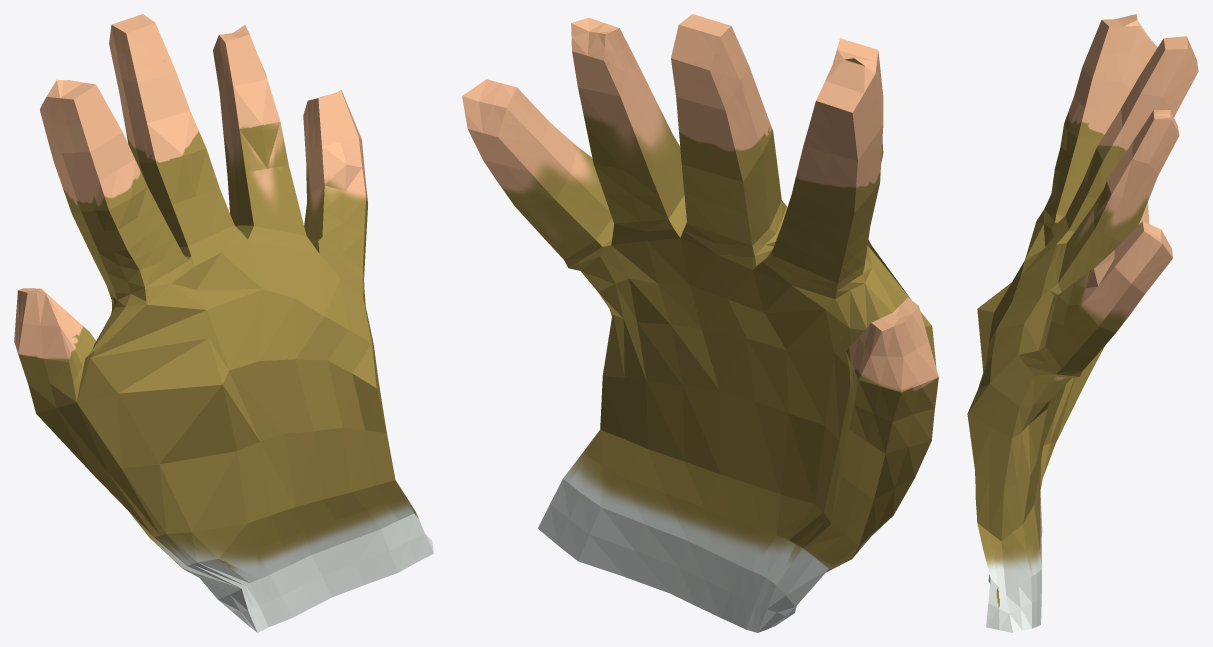
File: flexion0015.obj
The picture shows the model from 3 angles, left to right: view 1: azimuth 30°, elevation 25°; view 2: azimuth 150°, elevation 25°; view 3: azimuth 270°, elevation 25°; orthographic projection. The views are drawn at different scales.
Visible parts, largest first — view 1: Hand; view 2: Hand; view 3: Hand.
Part boxes in pixels (box(x1,y1,x2,y2)): Hand: box(14, 14, 433, 632); Hand: box(462, 14, 938, 632); Hand: box(967, 14, 1198, 632).
Size of the model in its own units: 3.27 by 4.68 by 1.86.
